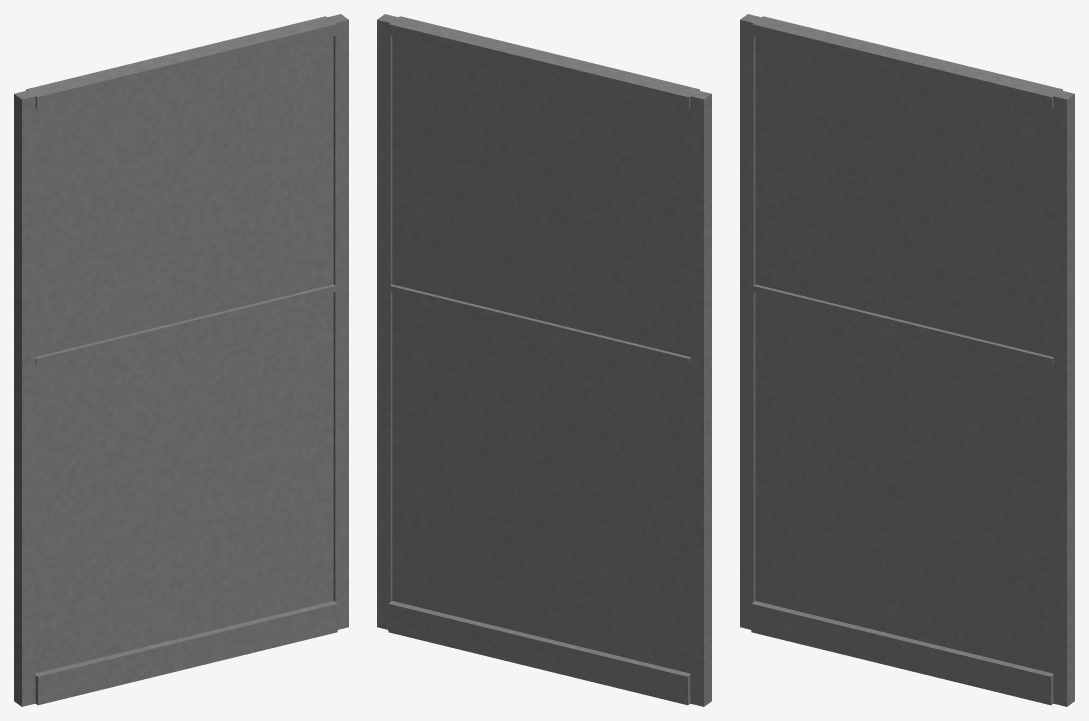
Rendered from X14_PART_Panel_Solid_120.glb.
The picture shows the model from 3 angles, left to right: view 1: azimuth 30°, elevation 25°; view 2: azimuth 150°, elevation 25°; view 3: azimuth 330°, elevation 25°; orthographic projection.
Parts seen in each view (by area): view 1: X14_PART_Panel_Solid_120_LOD0; view 2: X14_PART_Panel_Solid_120_LOD0; view 3: X14_PART_Panel_Solid_120_LOD0.
Boxes of the visible parts, x1,y1,x2,y2 form: X14_PART_Panel_Solid_120_LOD0: [14, 14, 348, 706]; X14_PART_Panel_Solid_120_LOD0: [377, 14, 711, 706]; X14_PART_Panel_Solid_120_LOD0: [740, 14, 1074, 706].
Size of what is drawn, in the model's own units: 1.2 by 2.13 by 0.08.
Materials: 1 (1 with a texture image).
